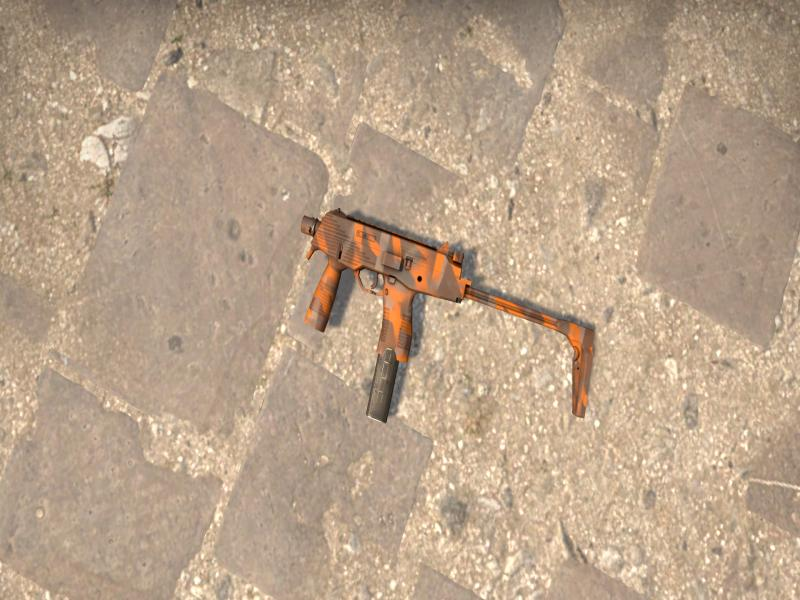MP9: (301, 208, 595, 420)
